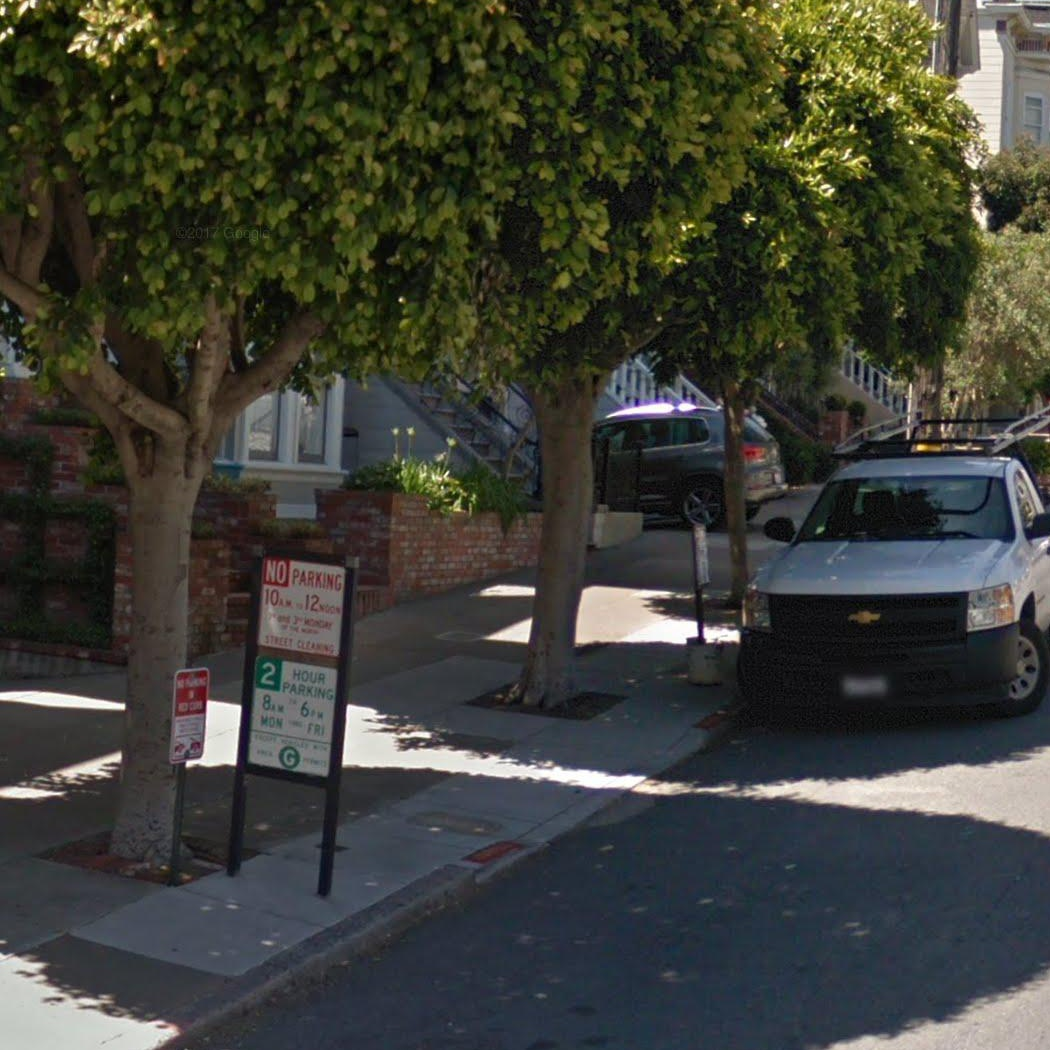2 Hour Parking: (244, 653, 341, 781)
No Parking: (256, 554, 346, 662)
